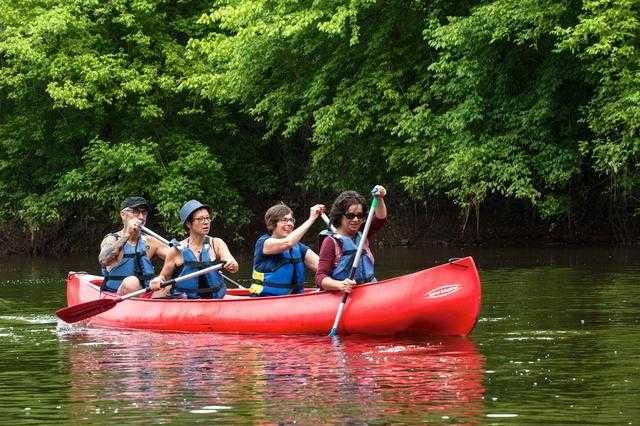kayak: (60, 257, 481, 337)
